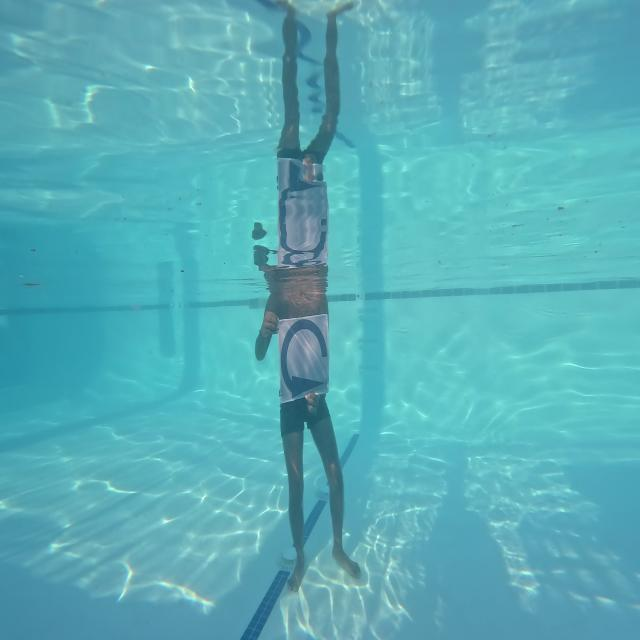blue_side: (277, 314, 331, 400)
